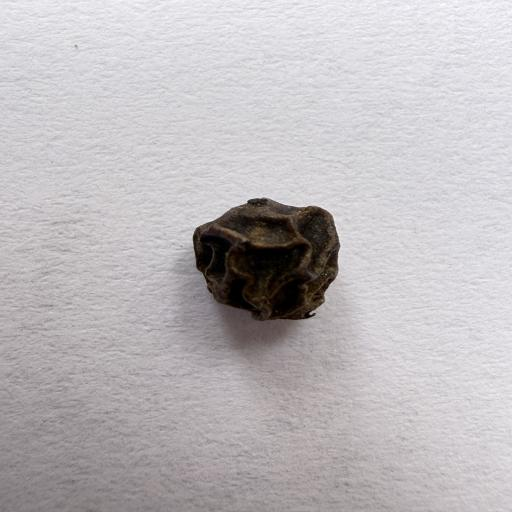Black_pepper: (193, 193, 349, 349)
